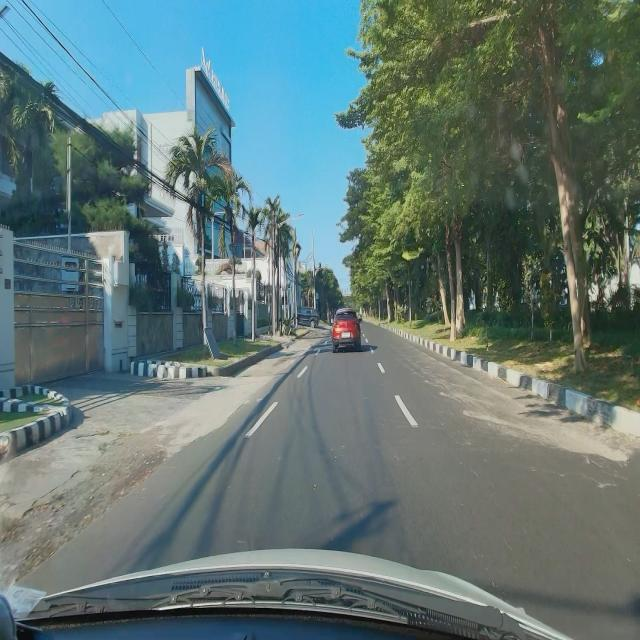car: (332, 308, 362, 353)
